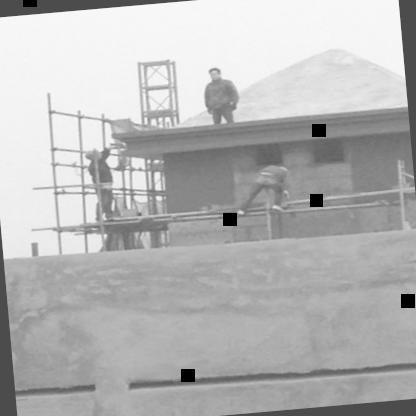head: (204, 66, 223, 83)
helmet: (81, 145, 102, 163)
